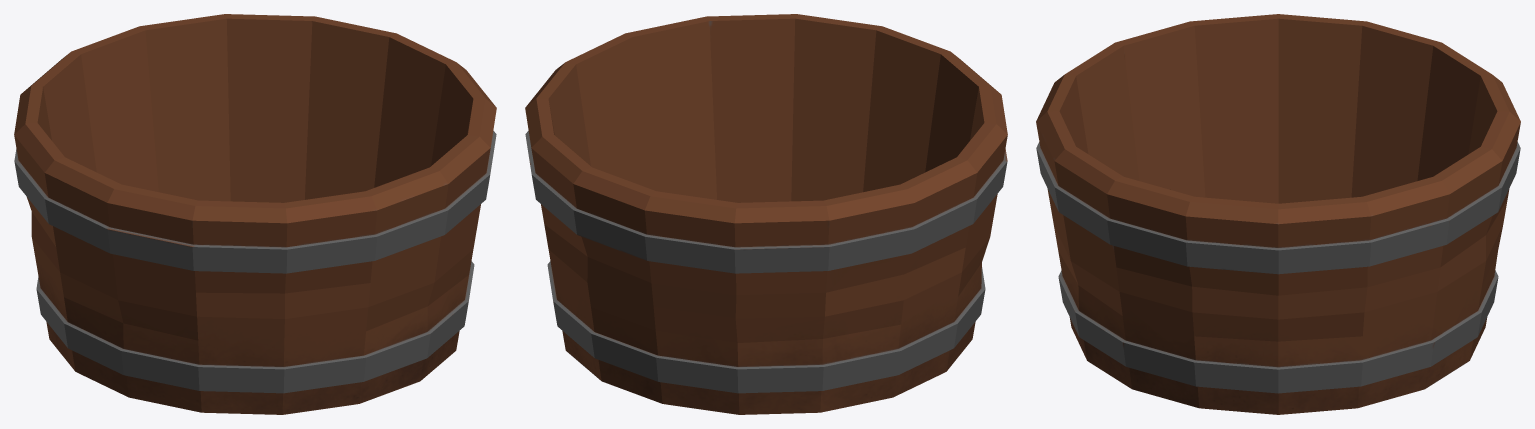
The model's file is beer_chan.glb.
The picture shows the model from 3 angles, left to right: view 1: azimuth 30°, elevation 25°; view 2: azimuth 150°, elevation 25°; view 3: azimuth 270°, elevation 25°; orthographic projection.
Parts seen in each view (by area): view 1: Cylinder; view 2: Cylinder; view 3: Cylinder.
Boxes of the visible parts, x1=… form: Cylinder: x1=14, y1=14, x2=496, y2=414; Cylinder: x1=525, y1=14, x2=1007, y2=414; Cylinder: x1=1036, y1=14, x2=1520, y2=414.
Size of the model in its own units: 3.22 by 1.58 by 3.22.
1 material, 1 textured.
